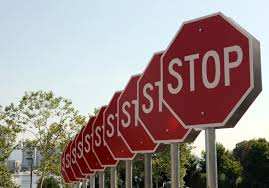Stop: (164, 14, 262, 134)
